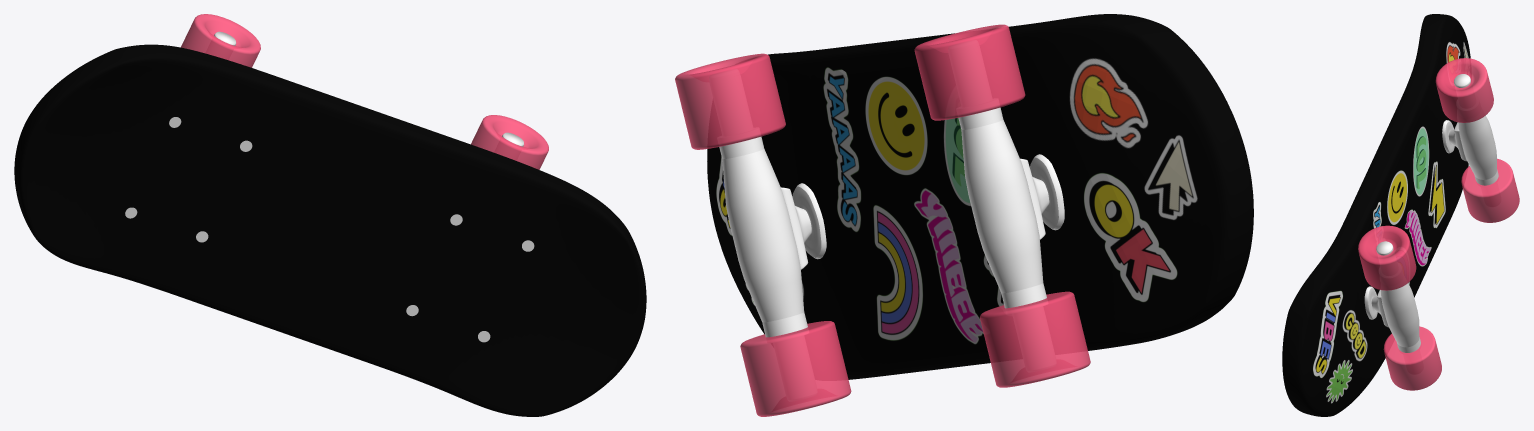
File: board-comet.glb
The picture shows the model from 3 angles, left to right: view 1: azimuth 30°, elevation 25°; view 2: azimuth 150°, elevation 25°; view 3: azimuth 270°, elevation 25°; orthographic projection. The views are drawn at different scales.
Parts seen in each view (by area): view 1: Plane_16, Cylinder.003_6, Cylinder.001_14, Circle.003_17; view 2: Plane_16, Cylinder.002_15, Cylinder.003_6, Cylinder.001_14, LOGO12 (1)_1, LOGO13_preview_rev_1_2, LOGO6 (1)_8, Cube_13, LOGO8 (1)_10, LOGO7 (1)_9, LOGO10 (1)_12, LOGO14_preview_rev_1_3 (+1 smaller); view 3: Plane_16, Cylinder.001_14, Cylinder.003_6, Cylinder.002_15, LOGO11 (1)_0, Cube_13, LOGO3 (1)_7, LOGO6 (1)_8, LOGO9 (1)_11, LOGO15_preview_rev_1_4, LOGO7 (1)_9, LOGO16_preview_rev_1_5 (+1 smaller).
Boxes of the visible parts, box(x1,y1,x2,y2) form: Plane_16: box(14, 44, 646, 416); Cylinder.003_6: box(180, 14, 260, 67); Cylinder.001_14: box(471, 115, 548, 169); Circle.003_17: box(125, 117, 534, 342); Plane_16: box(707, 14, 1253, 379); Cylinder.002_15: box(719, 107, 1046, 337); Cylinder.003_6: box(914, 24, 1090, 387); Cylinder.001_14: box(675, 53, 851, 416); LOGO12 (1)_1: box(1084, 173, 1177, 302); LOGO13_preview_rev_1_2: box(1069, 58, 1148, 148); LOGO6 (1)_8: box(865, 76, 927, 175); Cube_13: box(780, 154, 1064, 269); LOGO8 (1)_10: box(873, 205, 922, 340); LOGO7 (1)_9: box(914, 188, 983, 344); LOGO10 (1)_12: box(823, 67, 861, 231); LOGO14_preview_rev_1_3: box(1144, 135, 1197, 220); Plane_16: box(1282, 14, 1470, 416); Cylinder.001_14: box(1358, 225, 1441, 390); Cylinder.003_6: box(1435, 58, 1519, 222); Cylinder.002_15: box(1376, 74, 1498, 352); LOGO11 (1)_0: box(1313, 290, 1342, 377); Cube_13: box(1364, 120, 1466, 327); LOGO3 (1)_7: box(1413, 126, 1429, 196); LOGO6 (1)_8: box(1387, 170, 1407, 224); LOGO9 (1)_11: box(1428, 161, 1445, 228); LOGO15_preview_rev_1_4: box(1342, 310, 1367, 361); LOGO7 (1)_9: box(1404, 209, 1431, 266); LOGO16_preview_rev_1_5: box(1326, 360, 1352, 403).
Bounding box in the file's own units: 0.0129 × 0.00919 × 0.00709.
15 materials, 12 textured.
